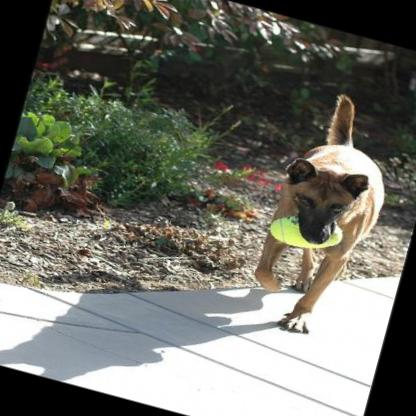malinois: (240, 81, 409, 344)
